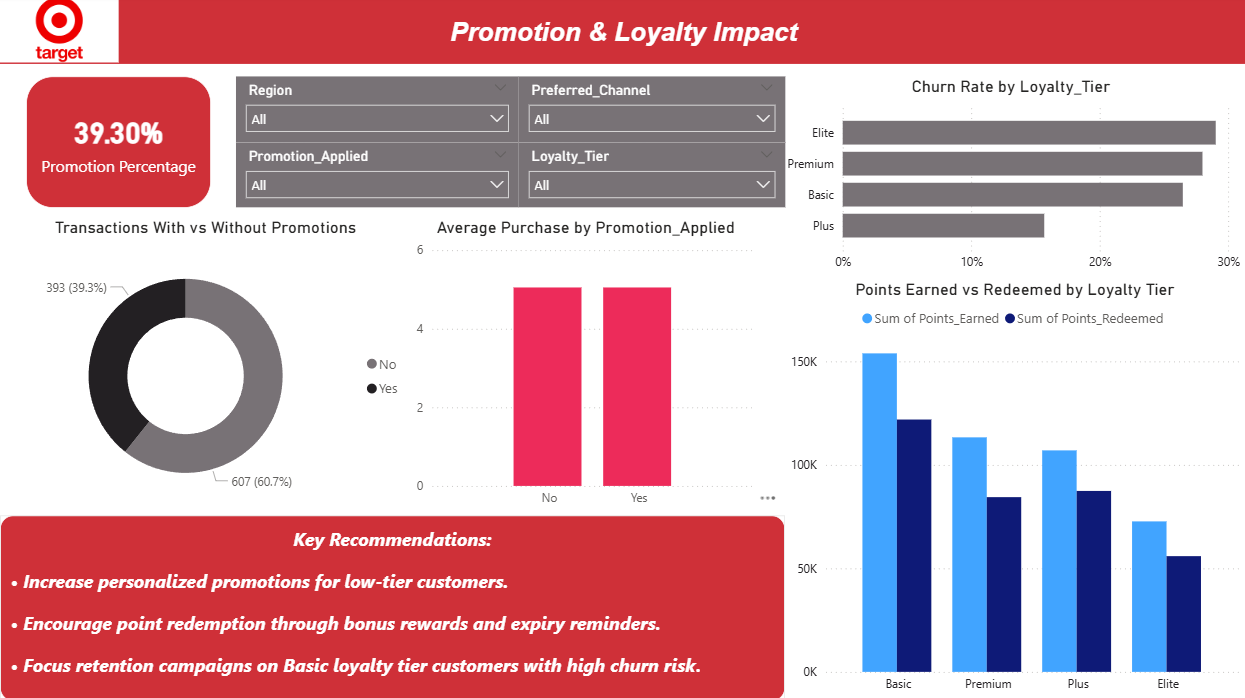

The page's visual inventory and layout, read from the dashboard file:
{"tool":"powerbi","page":{"name":"Promotion and Loyality","canvas":[1280,720],"ordinal":2},"visuals":[{"type":"card","fields":{"Values":["Customer_Transactions.Promotion Percentage"]},"box":[26.7,83,188.6,133.7],"z":0},{"type":"donutChart","title":"Transactions With vs Without Promotions","fields":{"Category":["Customer_Transactions.Promotion_Applied"],"Y":["CountNonNull(Customer_Transactions.Transaction_ID)"]},"box":[0,226.6,419.4,304],"z":1000},{"type":"clusteredColumnChart","title":"Average Purchase by Promotion_Applied","fields":{"Category":["Customer_Transactions.Promotion_Applied"],"Y":["Customer_Transactions.Average Purchase Frequency"]},"box":[419.4,226.6,356.1,304],"z":2000},{"type":"clusteredBarChart","fields":{"Category":["Loyalty_Program.Loyalty_Tier"],"Y":["Churn_Labelled_Customers.Churn Rate"]},"box":[792.4,83,477.1,206.9],"z":3000},{"type":"clusteredColumnChart","title":"Points Earned vs Redeemed by Loyalty Tier","fields":{"Category":["Loyalty_Program.Loyalty_Tier"],"Y":["Sum(Loyalty_Program.Points_Earned)","Sum(Loyalty_Program.Points_Redeemed)"]},"box":[800.8,289.9,468.7,430.7],"z":4000},{"type":"textbox","box":[0,530.6,800.8,190],"z":5000},{"type":"slicer","fields":{"Values":["Customer_Demographics.Region"]},"box":[240.7,83,288.5,67.6],"z":6000},{"type":"slicer","fields":{"Values":["Loyalty_Program.Loyalty_Tier"]},"box":[529.2,150.6,271.6,66.1],"z":7000},{"type":"slicer","fields":{"Values":["Customer_Transactions.Promotion_Applied"]},"box":[240.7,150.6,288.5,66.1],"z":8000},{"type":"slicer","fields":{"Values":["Customer_Demographics.Preferred_Channel"]},"box":[529.2,83,271.6,67.6],"z":9000},{"type":"textbox","box":[0,0,1279.3,70.4],"z":10000},{"type":"image","box":[0,0,121,70.4],"z":11000}]}

Visuals, with their boxes in screenshot pixels (x1, y1, x2, y2), scaled from the page's 1280x720 canvas onto the 1245x698 screenshot:
card - Customer_Transactions.Promotion Percentage: locate(26, 80, 209, 210)
"Transactions With vs Without Promotions" donutChart: locate(0, 220, 408, 514)
"Average Purchase by Promotion_Applied" clusteredColumnChart: locate(408, 220, 754, 514)
clusteredBarChart - Loyalty_Program.Loyalty_Tier x Churn_Labelled_Customers.Churn Rate: locate(771, 80, 1235, 281)
"Points Earned vs Redeemed by Loyalty Tier" clusteredColumnChart: locate(779, 281, 1235, 697)
textbox: locate(0, 514, 779, 697)
slicer - Customer_Demographics.Region: locate(234, 80, 515, 146)
slicer - Loyalty_Program.Loyalty_Tier: locate(515, 146, 779, 210)
slicer - Customer_Transactions.Promotion_Applied: locate(234, 146, 515, 210)
slicer - Customer_Demographics.Preferred_Channel: locate(515, 80, 779, 146)
textbox: locate(0, 0, 1244, 68)
image: locate(0, 0, 118, 68)
